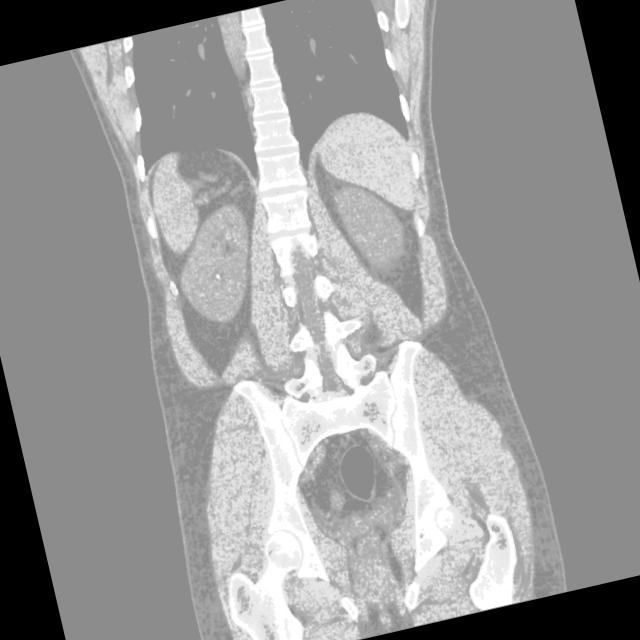STONE: (129, 102, 481, 350)
